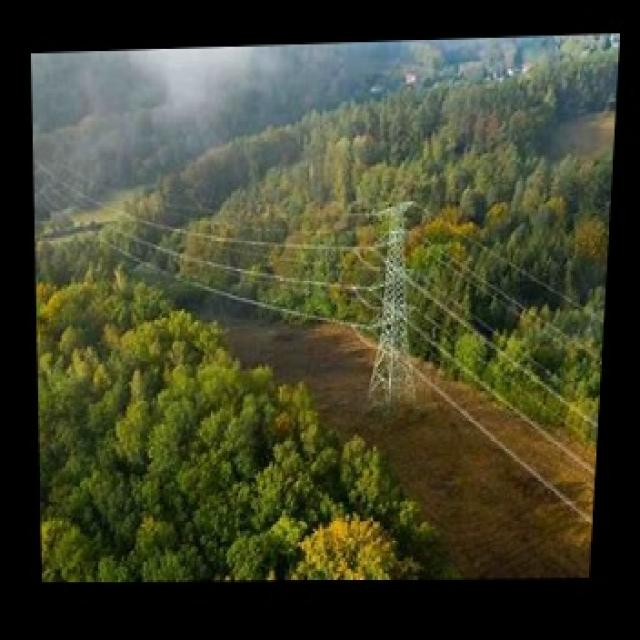utility poles: (357, 184, 427, 426)
